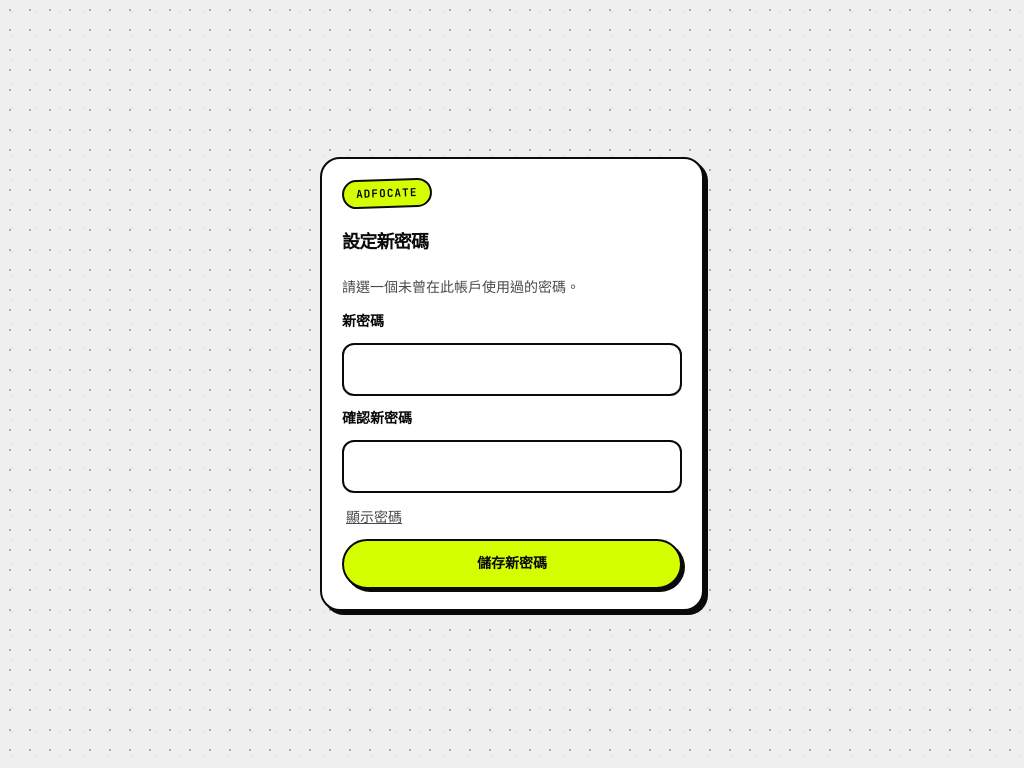
Test: Reset password (recovery landing) › classifies a weak password rejected by Supabase
Type "passwordpassword" into the password field labelled "新密碼" at [512, 370], box top-left (342, 343), bottom-right (682, 396)
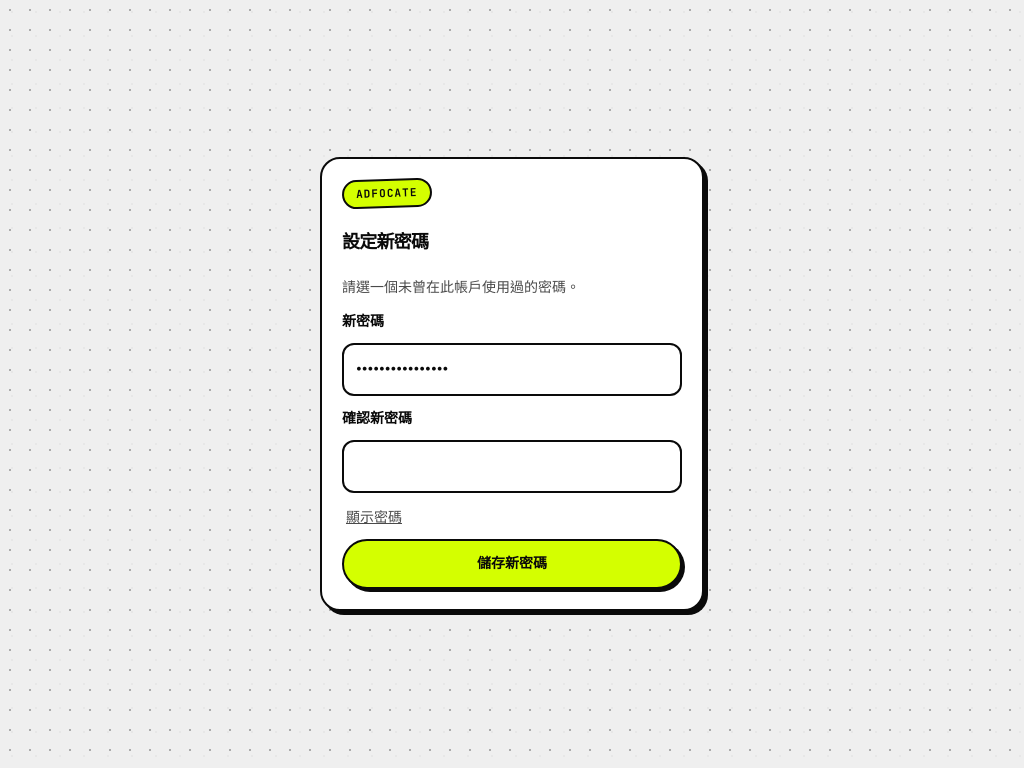
Type "passwordpassword" into the password field labelled "確認新密碼" at [512, 467], box top-left (342, 440), bottom-right (682, 493)
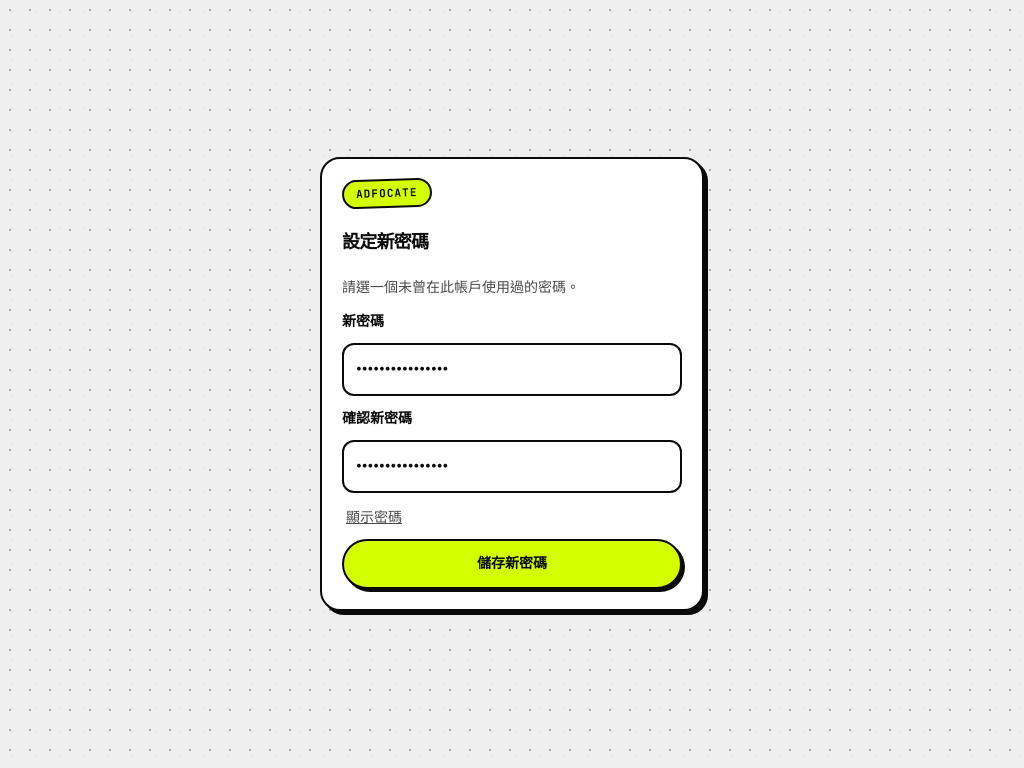
Click the button "儲存新密碼" at [512, 564], box top-left (342, 539), bottom-right (682, 589)
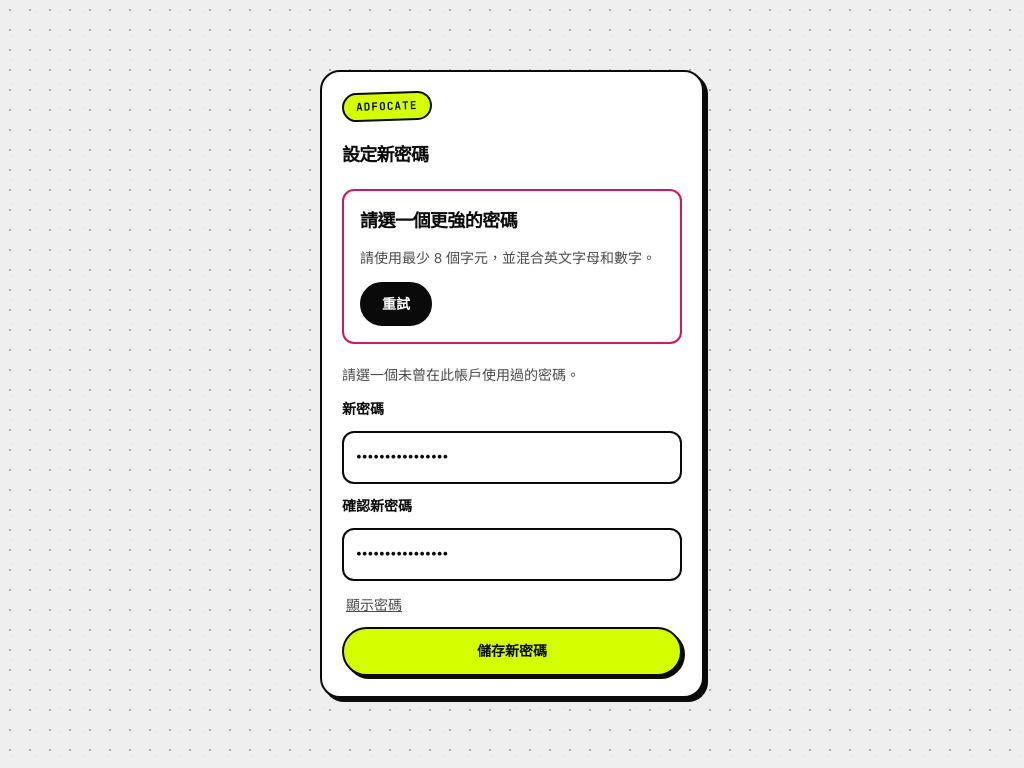
Check: the message shows "請選一個更強的密碼", box top-left (360, 209), bottom-right (517, 232)
